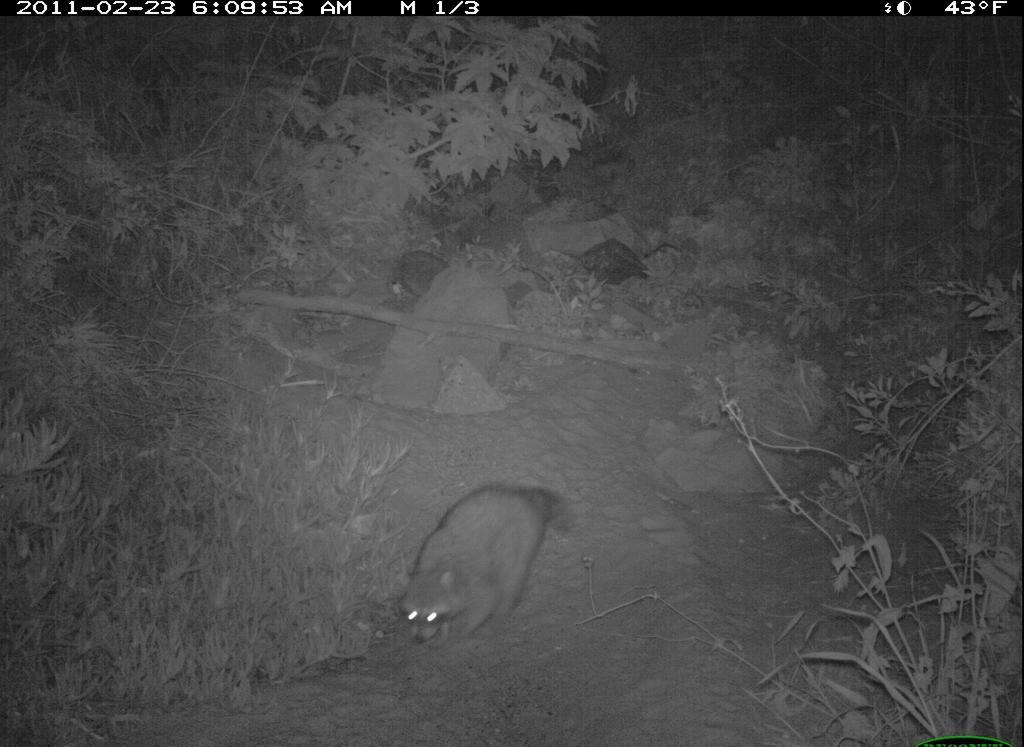raccoon: (393, 474, 583, 656)
